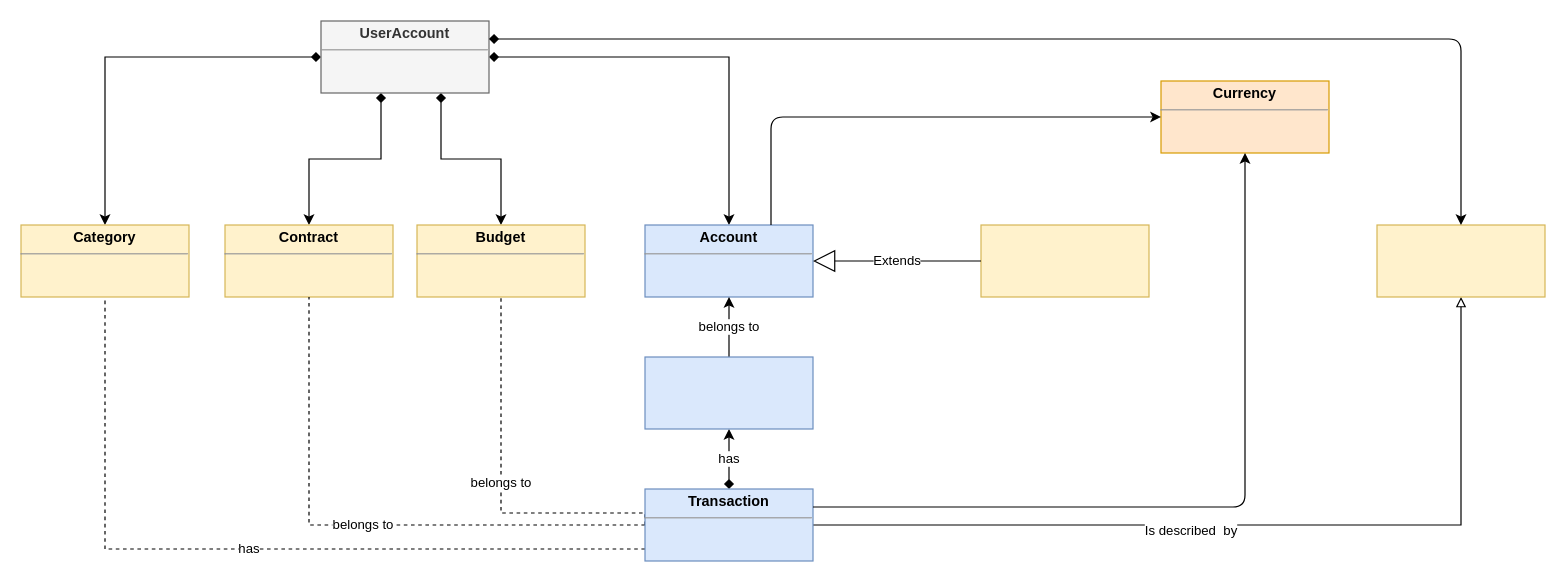
The diagram is 1566 pixels wide and 582 high, and some of its shapes have lost their labels. The shapes that lost their labels are listed below. From the top down, each one's centre as x and y in pixels, then its label:
point 1064,260: Loan
point 1460,260: Tag
point 728,392: Part
